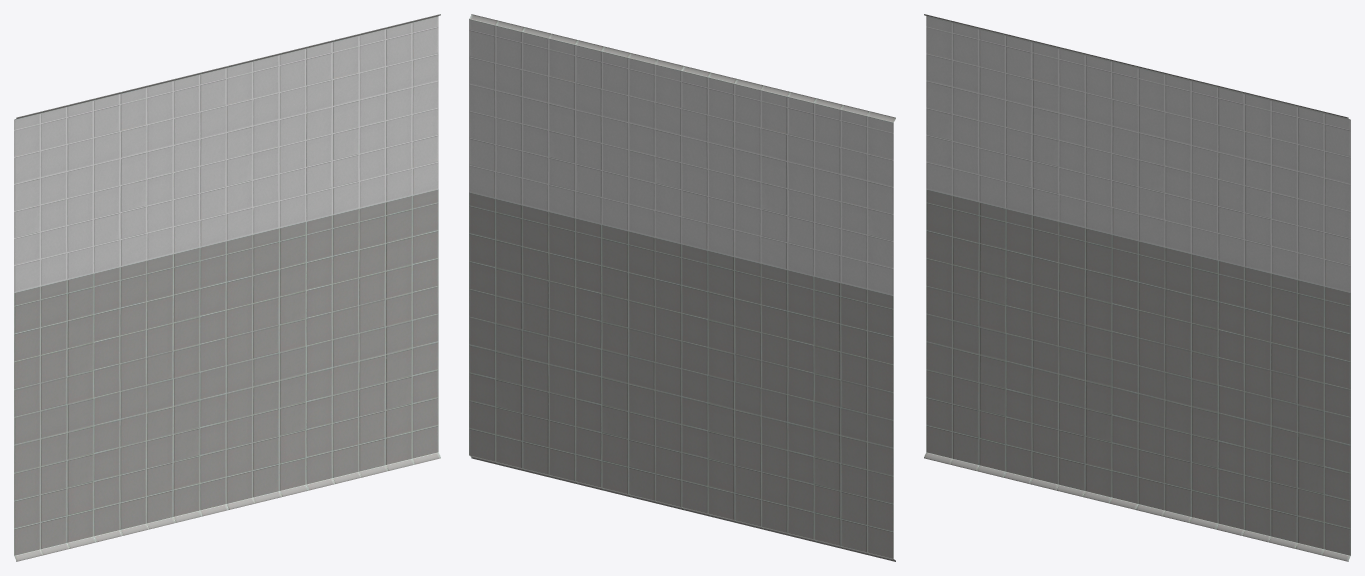
Rendered from bathroom_flat.dae.
3 renders of one model, left to right at view 1: azimuth 30°, elevation 25°; view 2: azimuth 150°, elevation 25°; view 3: azimuth 330°, elevation 25°, orthographic.
Parts seen in each view (by area): view 1: polySurface16; view 2: polySurface16; view 3: polySurface16.
Boxes of the visible parts, x1,y1,x2,y2 form: polySurface16: [14, 14, 440, 561]; polySurface16: [469, 14, 895, 561]; polySurface16: [924, 14, 1350, 561].
Bounding box in the file's own units: 4 × 4 × 0.0341.
